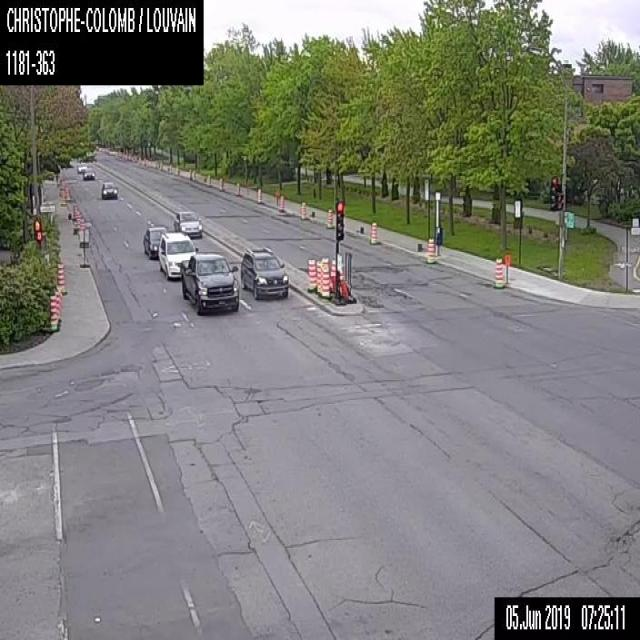construction: (78, 225, 89, 267), (320, 256, 329, 298), (48, 292, 57, 330), (56, 262, 66, 294), (493, 255, 502, 289), (307, 258, 315, 292), (426, 233, 434, 263), (337, 253, 343, 292), (324, 205, 334, 228), (368, 219, 377, 244), (329, 255, 335, 292), (503, 253, 510, 283), (315, 259, 321, 293), (54, 291, 60, 325), (296, 200, 304, 220), (72, 208, 78, 233), (275, 192, 282, 213), (252, 185, 260, 203), (78, 216, 85, 229), (232, 180, 238, 195)
vehicle: (181, 252, 238, 314), (239, 247, 288, 299), (158, 232, 198, 281), (142, 226, 168, 260), (174, 210, 202, 238), (100, 181, 117, 199), (83, 168, 94, 180), (76, 162, 87, 172)
